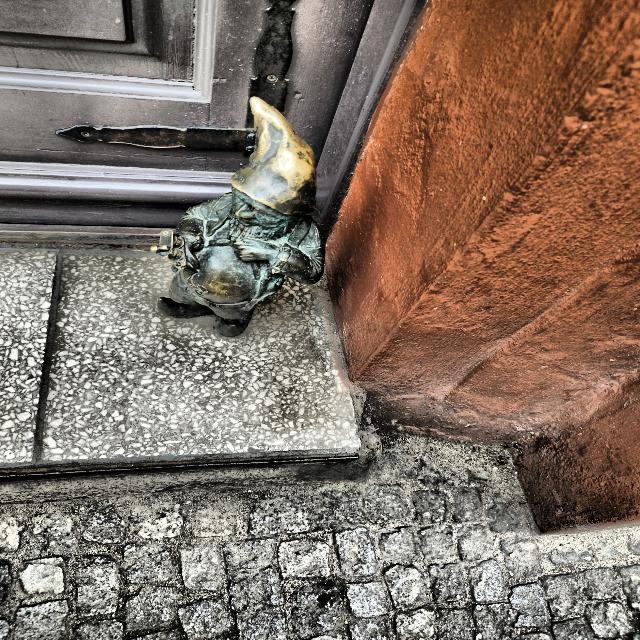TatuazystaKonstanty: (153, 96, 327, 336)
